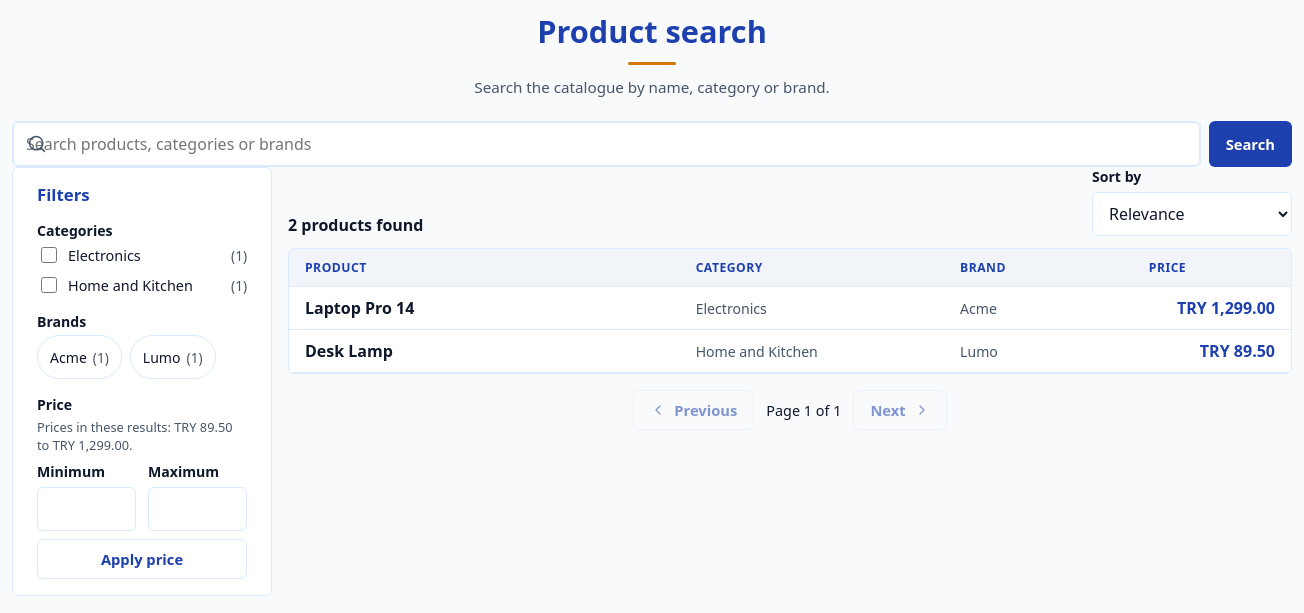
Test: Escape closes the suggestion list without running a search
Expected: the list named "Products" is shown, [288,248,1292,374]
Type "La" into the dropdown labelled "Search products".
click(606, 144); type("La")  # box [13,122,1200,166]
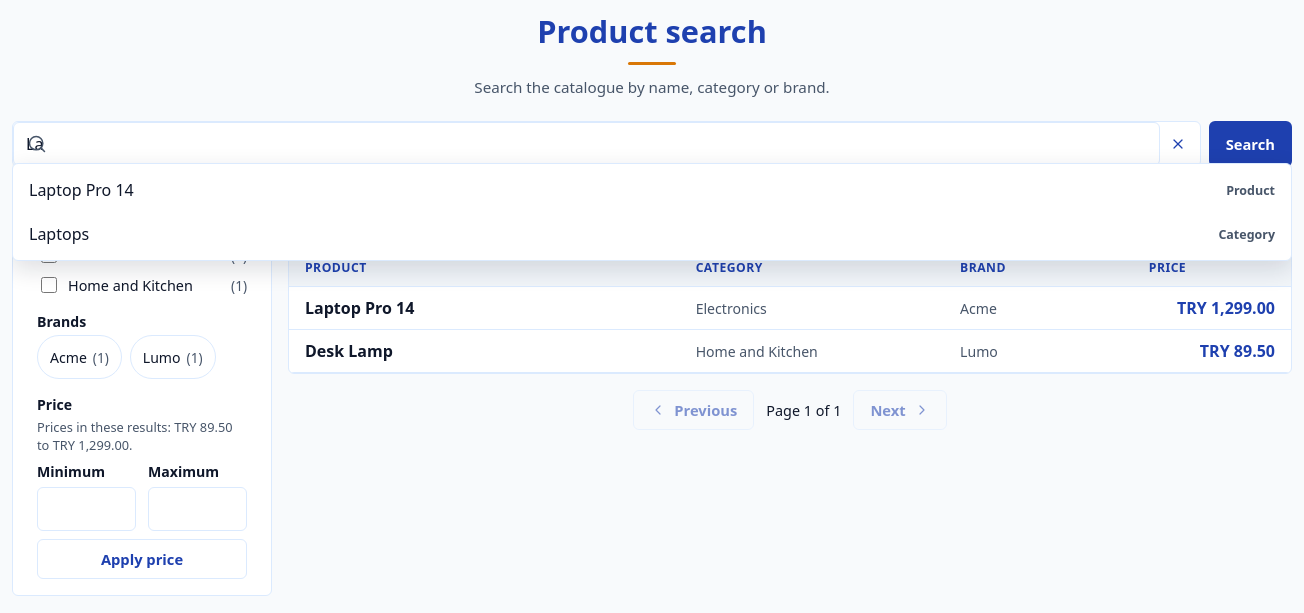
Now the list "Laptop Pro 14 Product Laptops Category" is shown, box [12,163,1292,261]
Press Escape in the dropdown named "Search products", box [13,122,1160,166]
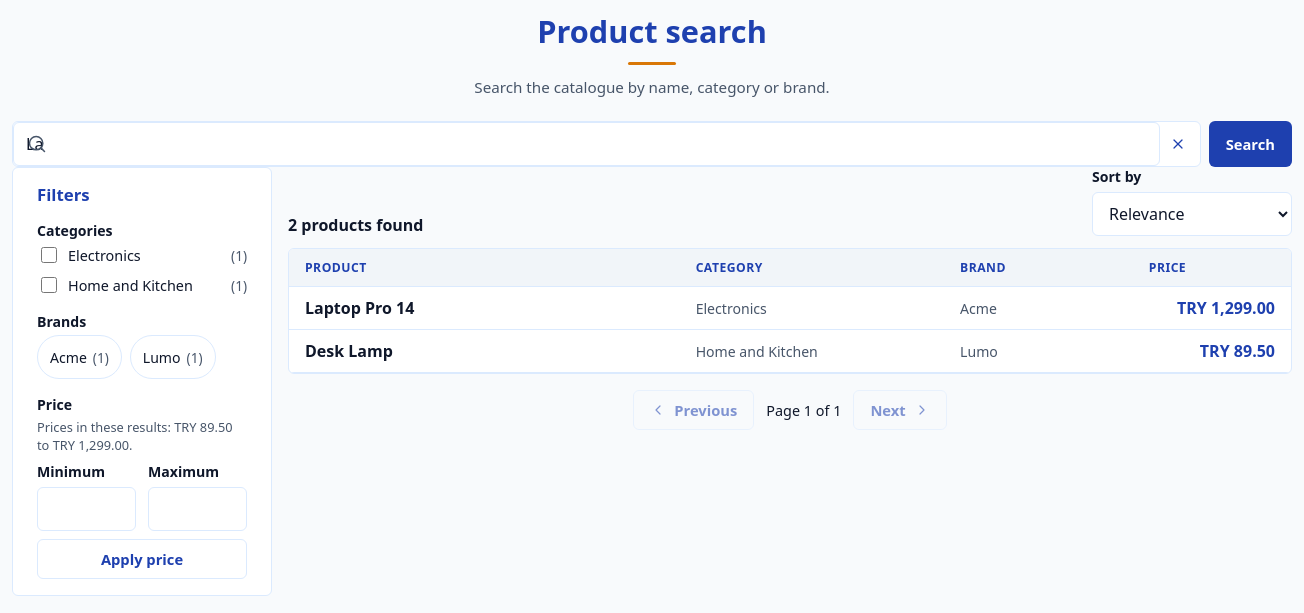
Now the list "Laptop Pro 14 Product Laptops Category" is gone
